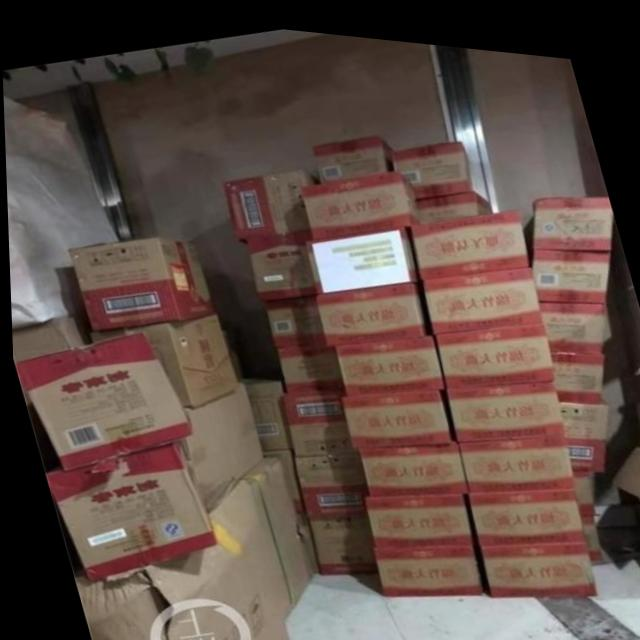box: (58, 474, 290, 640), (11, 329, 188, 470), (41, 439, 214, 581), (65, 233, 212, 328), (89, 310, 236, 404), (235, 450, 311, 608), (300, 161, 420, 234), (178, 380, 262, 482), (409, 197, 526, 270), (420, 255, 542, 324), (303, 219, 418, 287), (433, 313, 552, 377), (443, 369, 560, 432), (222, 161, 317, 235), (315, 274, 425, 337), (332, 327, 444, 388), (466, 476, 583, 534), (456, 423, 572, 481), (337, 380, 447, 439), (476, 530, 593, 585), (357, 433, 466, 488), (361, 485, 469, 538), (368, 537, 478, 588), (522, 183, 613, 237), (245, 223, 314, 293), (390, 130, 470, 190), (279, 384, 354, 448), (291, 446, 363, 511), (237, 361, 288, 443), (311, 125, 393, 175), (306, 505, 372, 567), (10, 312, 91, 361), (530, 238, 607, 289), (274, 338, 341, 389), (538, 289, 603, 340), (261, 289, 322, 341), (550, 340, 601, 390), (416, 182, 491, 214), (555, 382, 604, 425), (606, 431, 640, 485), (563, 426, 602, 459), (568, 459, 590, 501), (579, 503, 597, 544)
